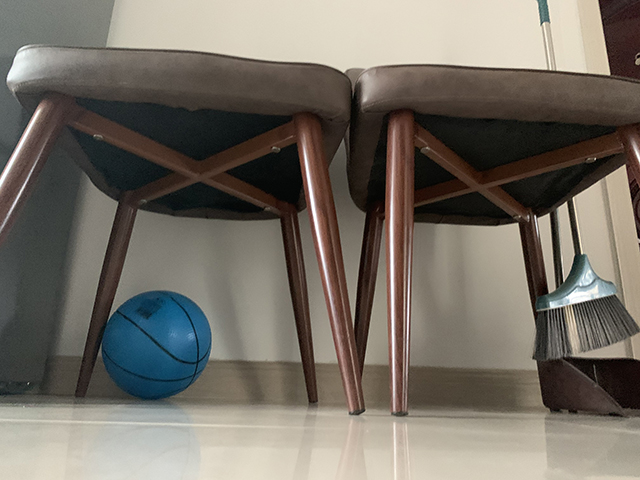stool: (1, 41, 368, 419), (342, 62, 640, 419)
